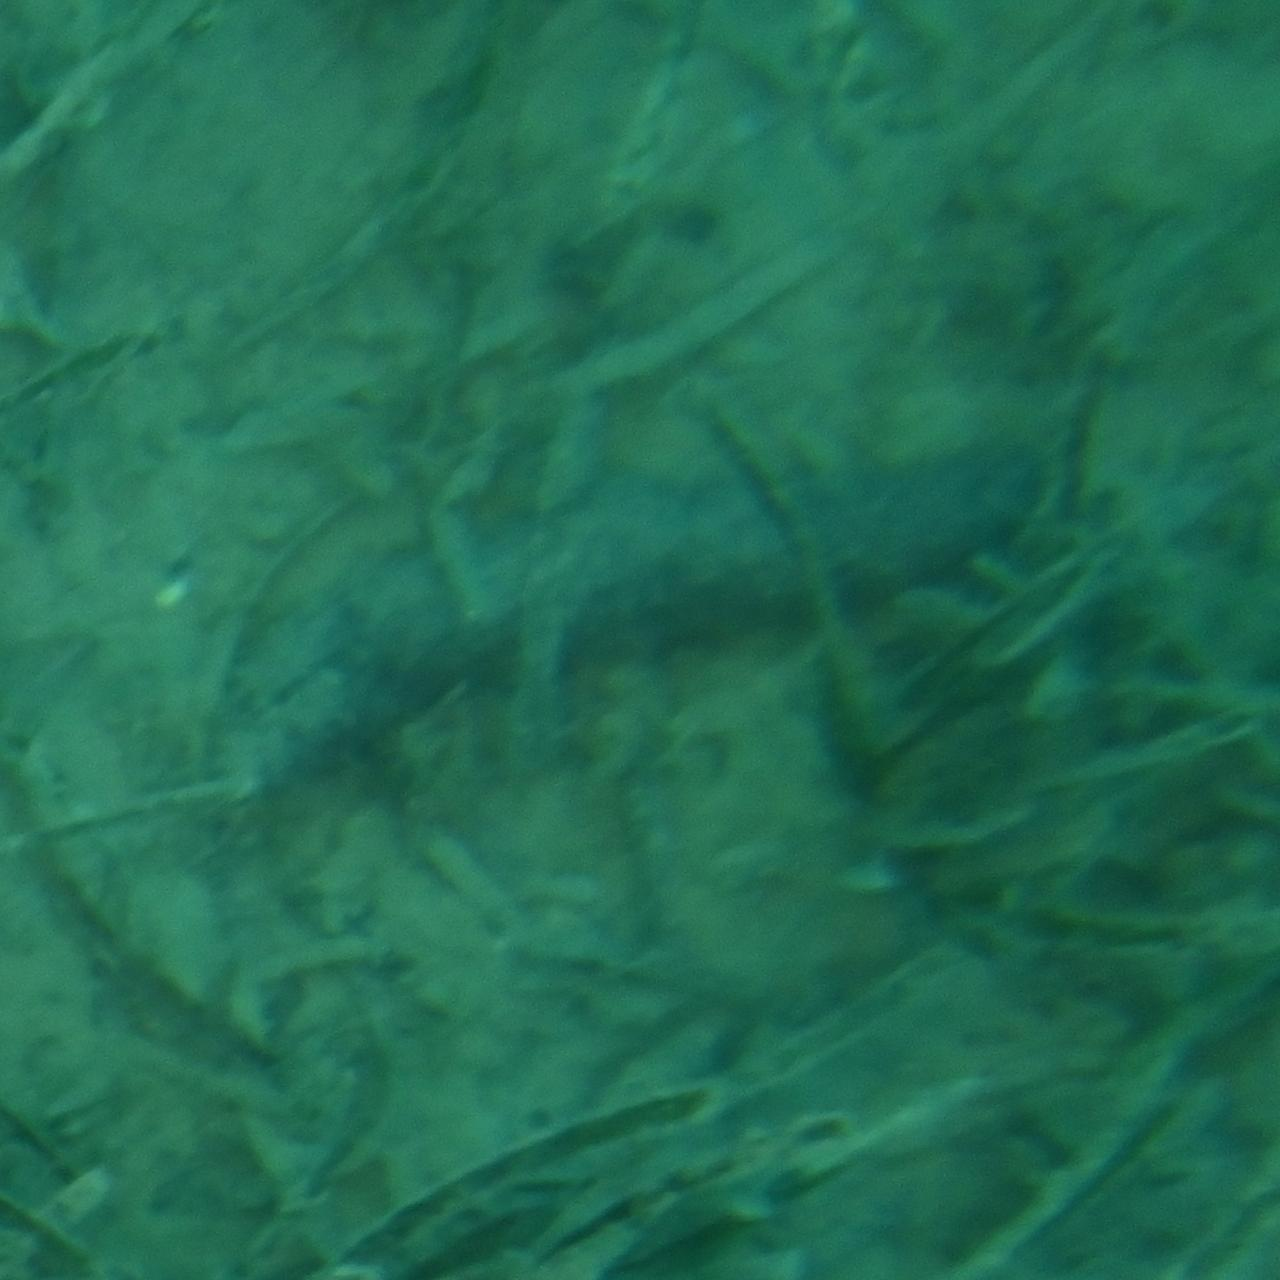Holothuria tubulosa: (203, 436, 1077, 844)
